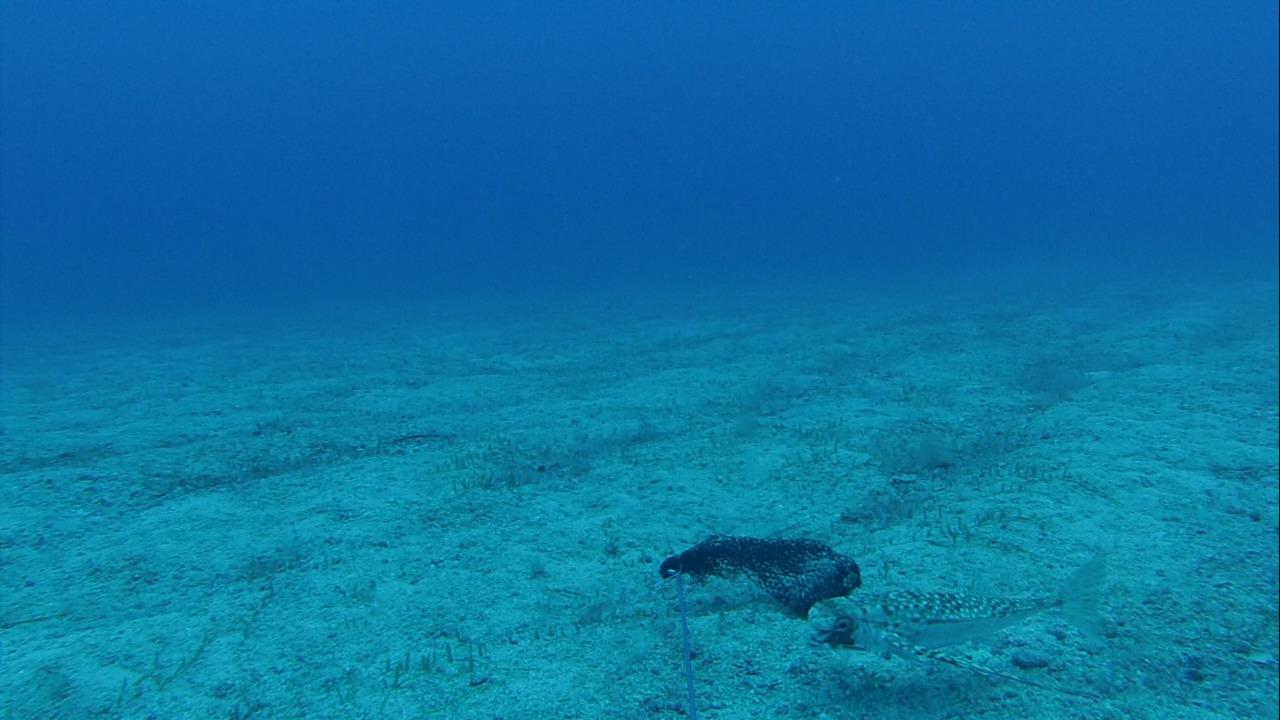dactylopterus: (801, 551, 1116, 694)
